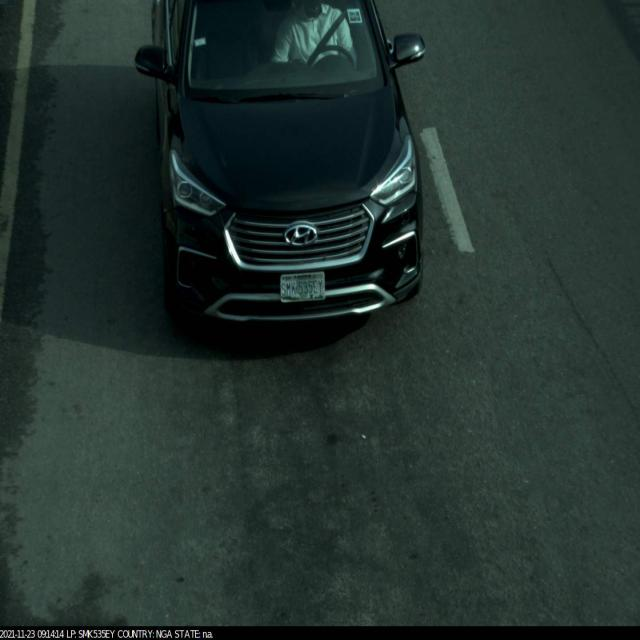windshield: (180, 1, 397, 111)
